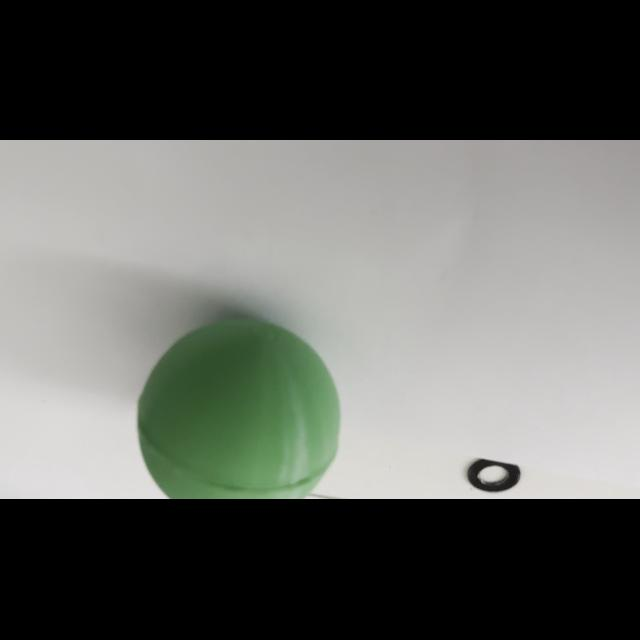objects: (128, 309, 346, 499)
